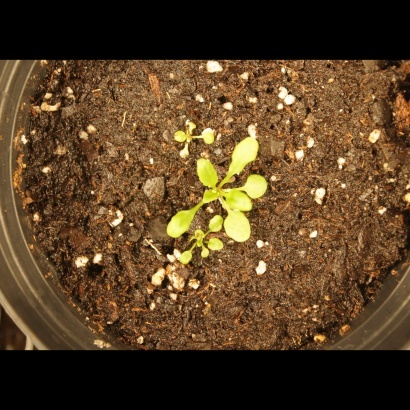leaf: (224, 133, 258, 186), (164, 203, 202, 240), (223, 204, 253, 250), (244, 170, 273, 203), (195, 154, 219, 191), (220, 189, 254, 215), (200, 125, 223, 148), (165, 123, 188, 146), (169, 145, 192, 168), (181, 111, 204, 134), (175, 246, 198, 269), (209, 238, 232, 261), (202, 213, 225, 236), (199, 246, 222, 269), (201, 185, 224, 208)
